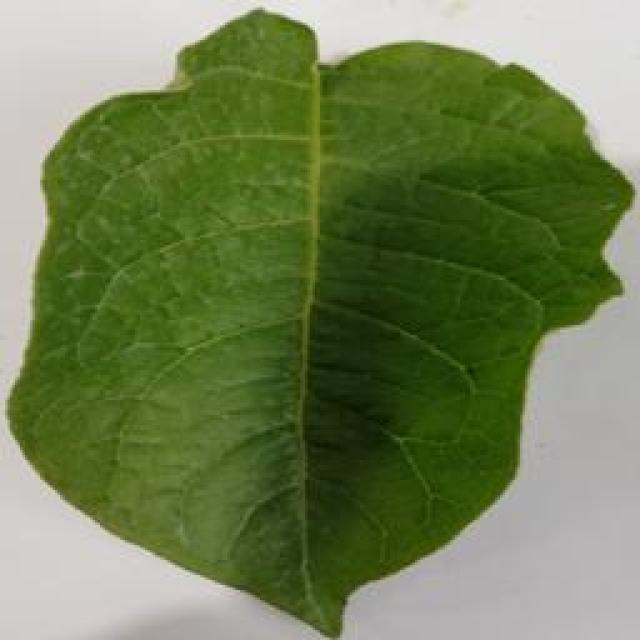Potato_Healthy: (4, 9, 627, 629)
